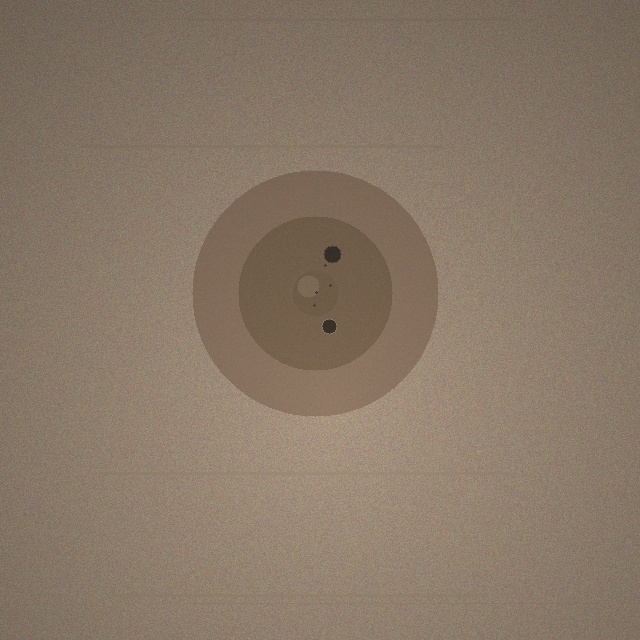shrinkage: (192, 170, 438, 416)
